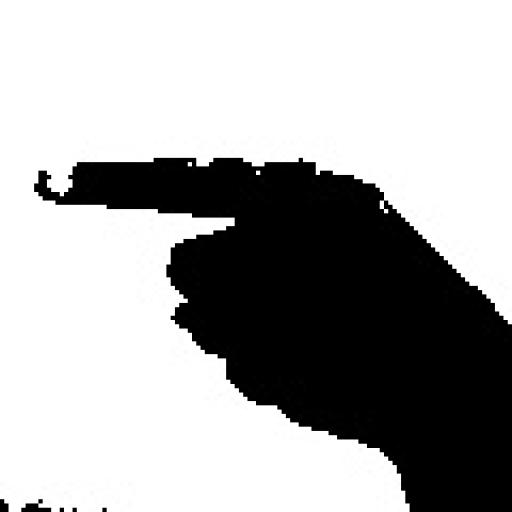index_left: (30, 154, 512, 392)
